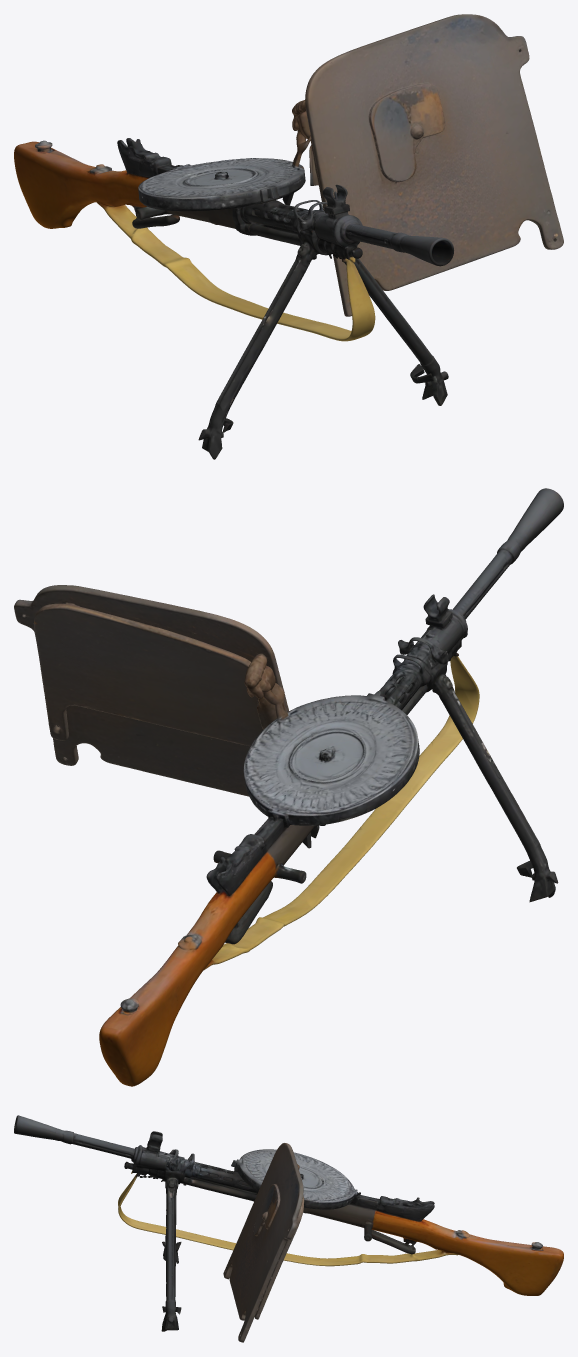
Rendered from 019-stankovyy-pulemet.glb.
3 renders of one model, top to bottom at view 1: azimuth 30°, elevation 25°; view 2: azimuth 150°, elevation 25°; view 3: azimuth 270°, elevation 25°, orthographic. The views are drawn at different scales.
Parts seen in each view (by area): view 1: node_0; view 2: node_0; view 3: node_0.
Boxes of the visible parts, x1,y1,x2,y2 form: node_0: (14,14,563,459); node_0: (14,488,563,1086); node_0: (14,1115,563,1342).
Bounding box in the file's own units: 0.6407 × 0.4158 × 1.11.
Materials: 1 (1 with a texture image).
